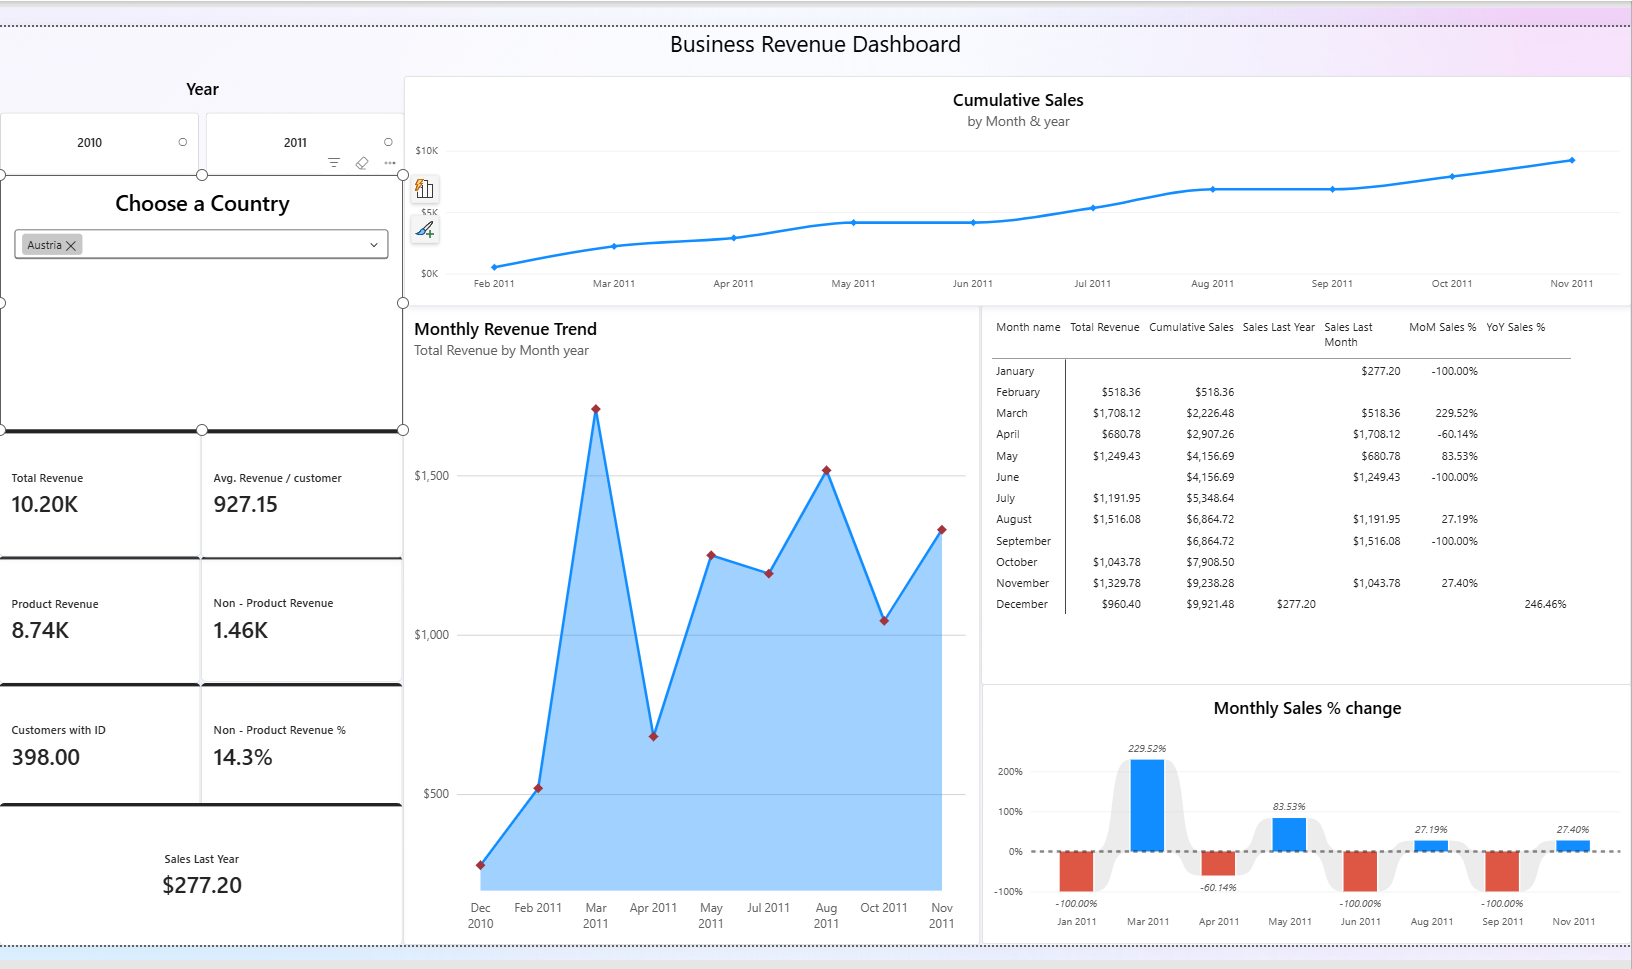

This screenshot's page, from the dashboard's own definition file:
{"tool":"powerbi","page":{"name":"Page 1","canvas":[1920,1080],"ordinal":0},"visuals":[{"type":"cardVisual","fields":{"Data":["Online Retail Clean.Product_Revenue"]},"box":[0,622.8,237.8,150.3],"z":0},{"type":"cardVisual","fields":{"Data":["Online Retail Clean.Total_Revenue"]},"box":[0,473.9,238.3,149.2],"z":1000},{"type":"cardVisual","fields":{"Data":["Online Retail Clean.Non_product_Revenue"]},"box":[237.8,622.8,237.8,149],"z":2000},{"type":"cardVisual","fields":{"Data":["Online Retail Clean.Valid_Customers"]},"box":[0,771.8,237.8,147.6],"z":3000},{"type":"cardVisual","fields":{"Data":["Online Retail Clean.Avg_Revenue_per_Customer"]},"box":[237.8,473.9,238.3,150.3],"z":4000},{"type":"cardVisual","fields":{"Data":["Online Retail Clean.Non_product_Revenue_pct"]},"box":[237.8,771.8,237.8,147.6],"z":5000},{"type":"pivotTable","fields":{"Rows":["All_dates.Year","All_dates.Month_number","All_dates.Month_name","All_dates.Date"],"Values":["Online Retail Clean.Total_Revenue","All_dates.Sales_ytd","All_dates.Sales_Last_Yr","All_dates.Sales_Last_Month","All_dates.MoM_growth_pct","All_dates.Pct_Change_LstYrSales"]},"box":[1154.9,326.9,765.3,446.9],"z":6000},{"type":"columnChart","title":"Monthly Sales % change","fields":{"Category":["All_dates.Month_year"],"Y":["All_dates.MoM_Sales_pct"]},"box":[1156.1,773.5,763.9,306.1],"z":7000},{"type":"lineChart","title":"Monthly Revenue Trend","fields":{"Category":["All_dates.Month_year"],"Y":["Online Retail Clean.Total_Revenue"]},"box":[475.6,326.6,679.2,753],"z":8000},{"type":"cardVisual","fields":{"Data":["All_dates.Sales_YTD"]},"box":[0,912.7,475.6,168.1],"z":9000},{"type":"advancedSlicerVisual","fields":{"Values":["All_dates.Year"]},"box":[1.2,57.6,476.5,116.5],"z":10000},{"type":"listSlicer","title":"Choose a Country","fields":{"Values":["Online Retail Clean.Country"]},"box":[1.2,174.1,474.1,300],"z":11000},{"type":"lineChart","title":"Cumulative Sales","fields":{"Category":["All_dates.Month year"],"Y":["All_dates.Cummulative Sales"]},"box":[476.5,57.6,1443.5,270.6],"z":12000},{"type":"textbox","box":[1.2,0,1918.8,57.6],"z":13000}]}

Visuals, with their boxes on the page's 1920x1080 design canvas (x1, y1, x2, y2). These are canvas units, not pixel positions in the 1632x969 screenshot, which may show the page scaled, cropped or inside an application window:
cardVisual - Online Retail Clean.Product_Revenue: [x1=0, y1=623, x2=238, y2=773]
cardVisual - Online Retail Clean.Total_Revenue: [x1=0, y1=474, x2=238, y2=623]
cardVisual - Online Retail Clean.Non_product_Revenue: [x1=238, y1=623, x2=476, y2=772]
cardVisual - Online Retail Clean.Valid_Customers: [x1=0, y1=772, x2=238, y2=919]
cardVisual - Online Retail Clean.Avg_Revenue_per_Customer: [x1=238, y1=474, x2=476, y2=624]
cardVisual - Online Retail Clean.Non_product_Revenue_pct: [x1=238, y1=772, x2=476, y2=919]
pivotTable - All_dates.Year x All_dates.Month_number: [x1=1155, y1=327, x2=1920, y2=774]
"Monthly Sales % change" columnChart: [x1=1156, y1=774, x2=1920, y2=1080]
"Monthly Revenue Trend" lineChart: [x1=476, y1=327, x2=1155, y2=1080]
cardVisual - All_dates.Sales_YTD: [x1=0, y1=913, x2=476, y2=1081]
advancedSlicerVisual - All_dates.Year: [x1=1, y1=58, x2=478, y2=174]
"Choose a Country" listSlicer: [x1=1, y1=174, x2=475, y2=474]
"Cumulative Sales" lineChart: [x1=476, y1=58, x2=1920, y2=328]
textbox: [x1=1, y1=0, x2=1920, y2=58]
